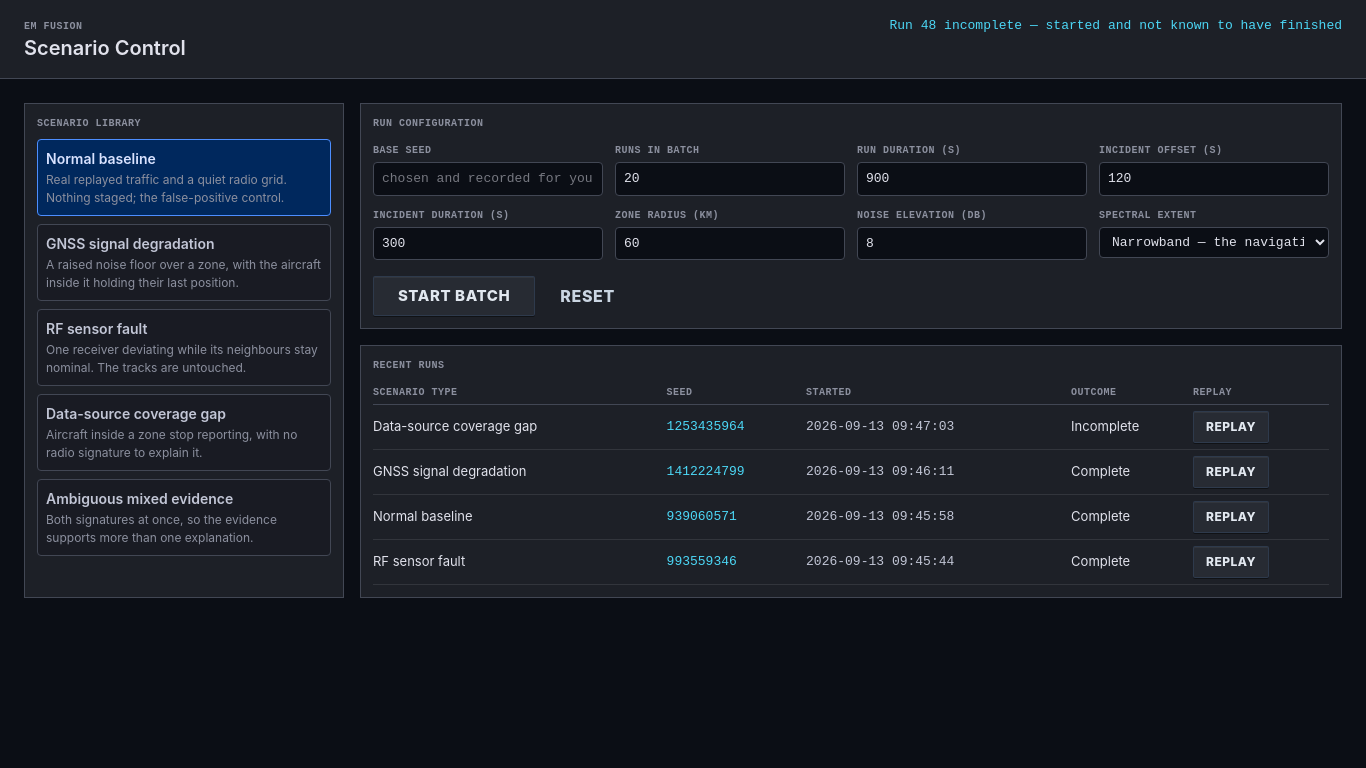
Test: ScenarioControlScreen › refuses a batch outside twenty to thirty runs
Replace the text in the field labelled "Runs in batch" with "5": [730, 179] box x1=615 y1=162 x2=845 y2=196
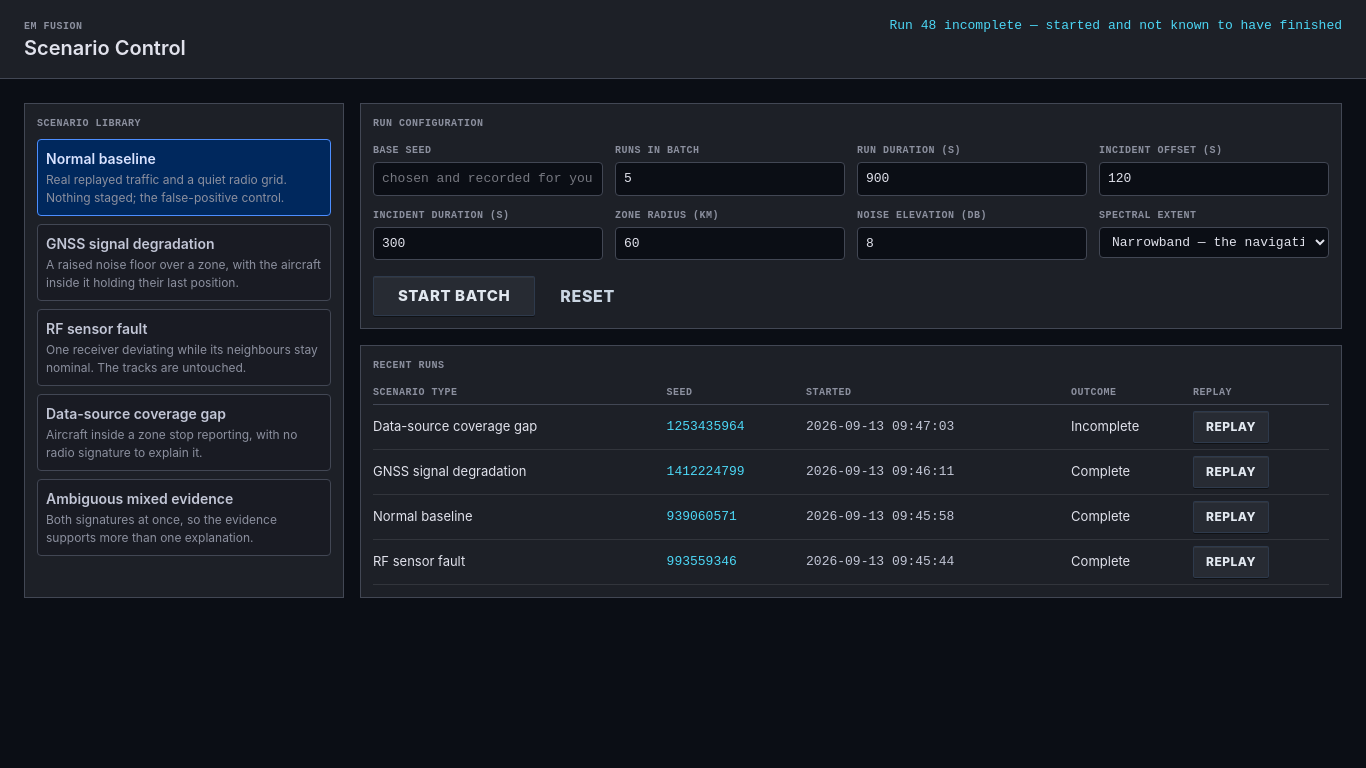
Click the button "Start batch": [454, 296] box x1=373 y1=276 x2=535 y2=316
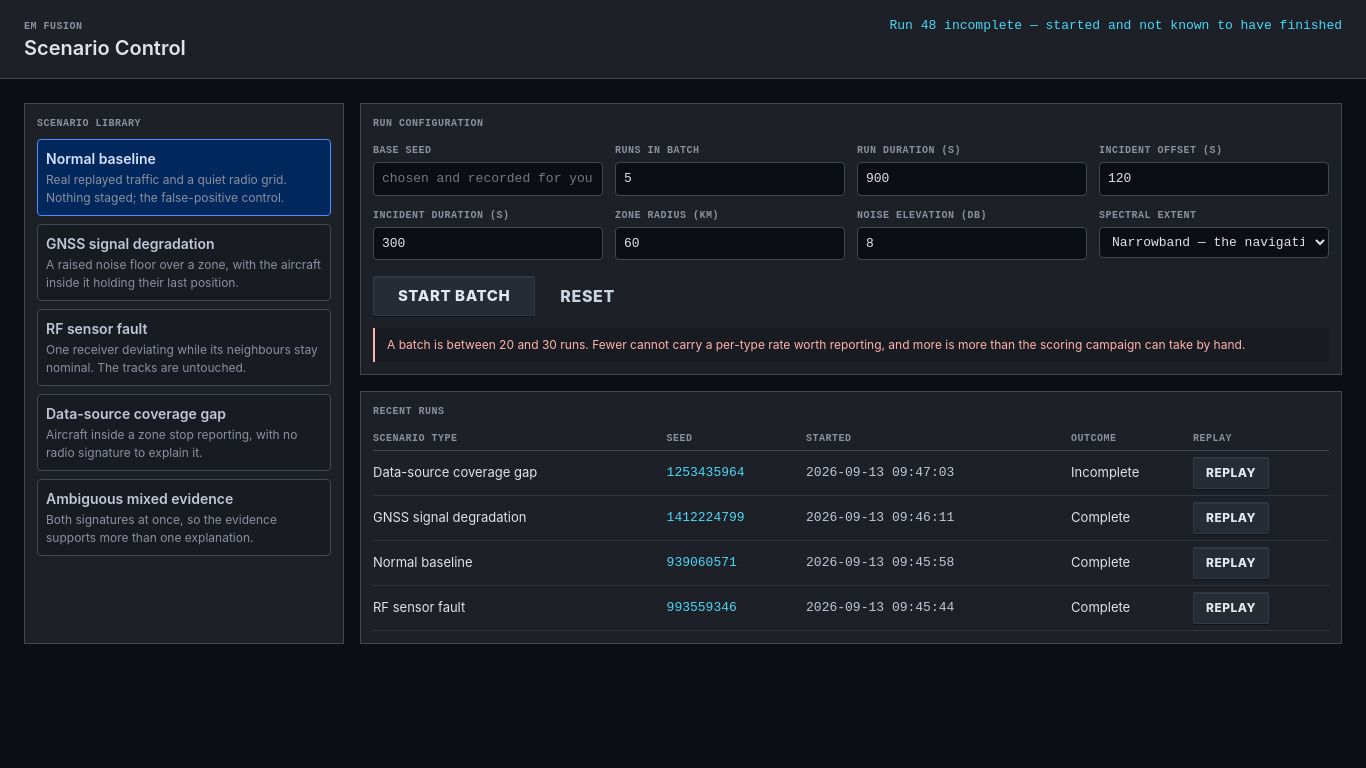
Now the 2nd message shows "20", box x1=387 y1=337 x2=1245 y2=352
